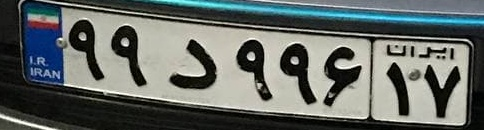character: (162, 33, 225, 96), (319, 37, 367, 114), (275, 35, 322, 112), (231, 33, 277, 105), (108, 18, 152, 91), (66, 14, 107, 84), (420, 60, 466, 122), (379, 58, 418, 120)
